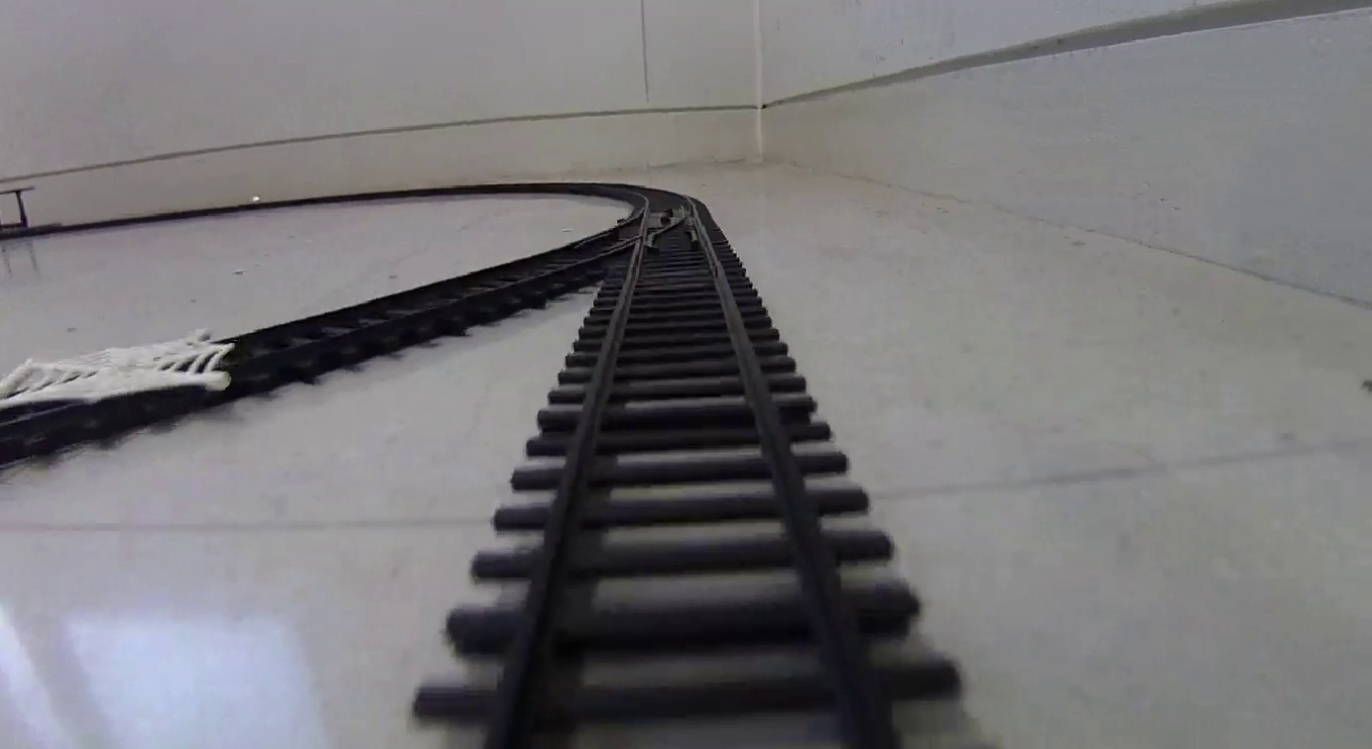web: (3, 333, 225, 395)
